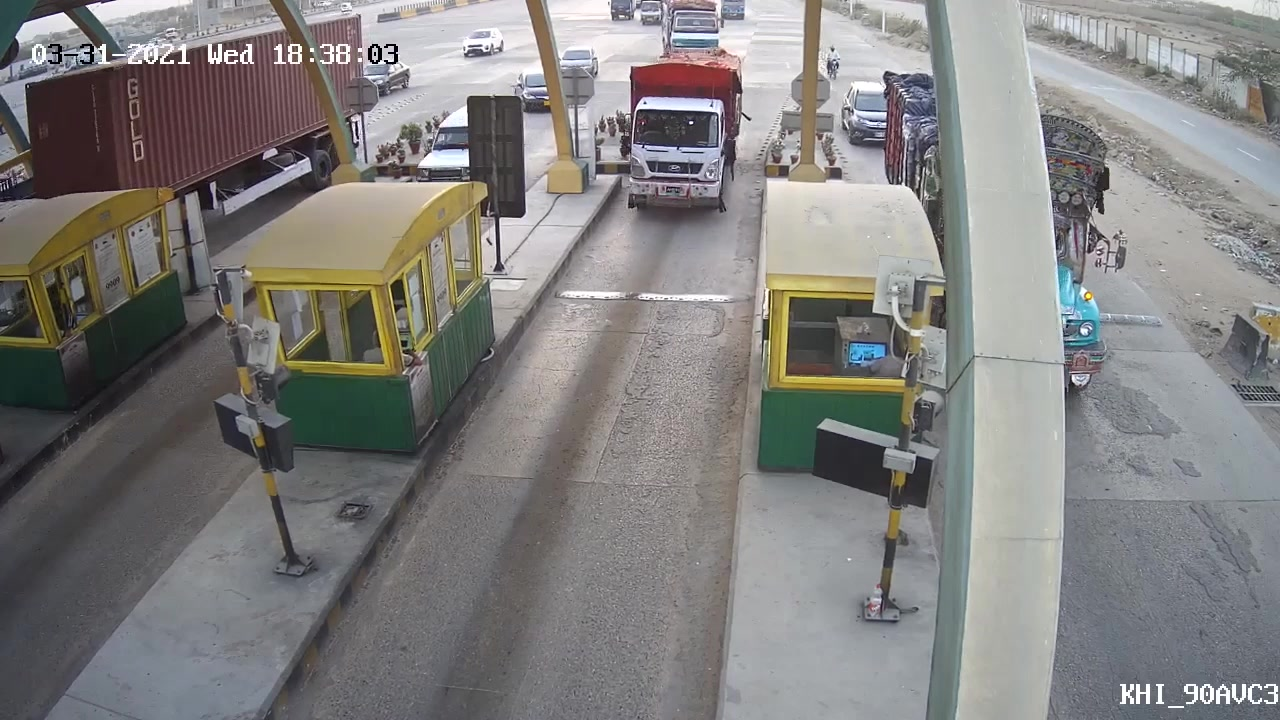F5: (624, 63, 749, 227)
